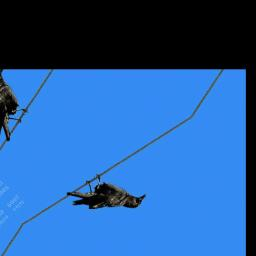Crow: (62, 155, 151, 238)
